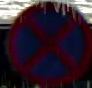No waiting: (5, 2, 91, 87)
